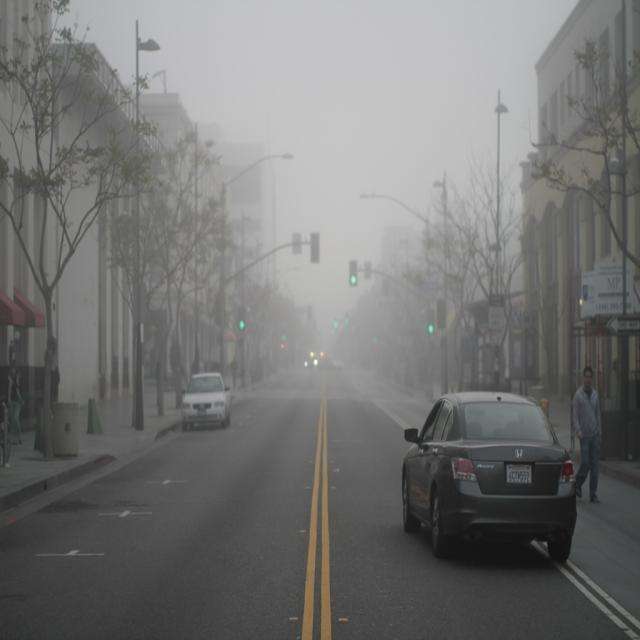car: (401, 384, 586, 567), (180, 370, 228, 431)
